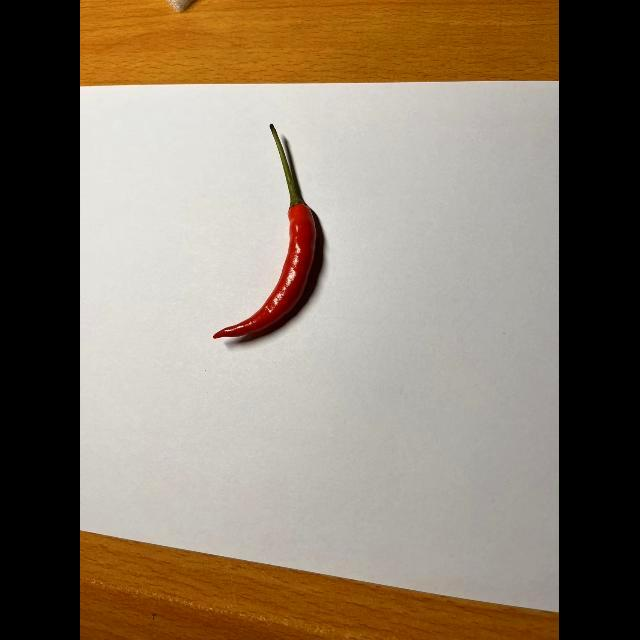chili_pepper: (210, 120, 327, 344)
